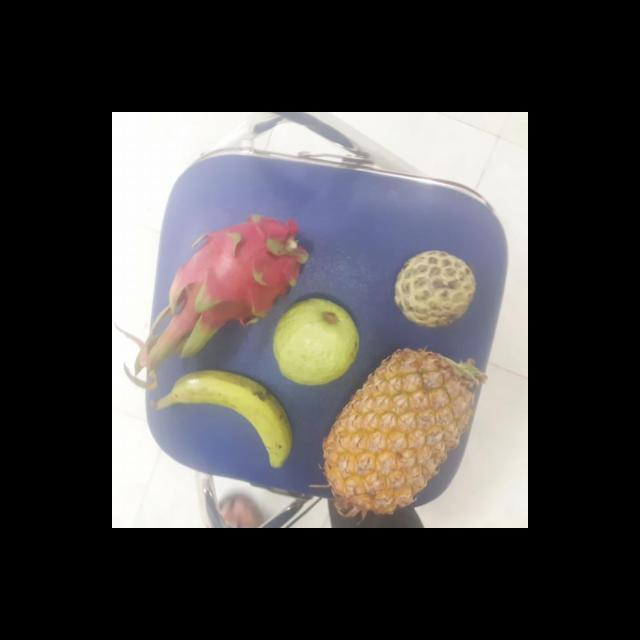Sakya fruit: (392, 251, 474, 327)
guava: (268, 297, 359, 383)
pineapple: (321, 351, 476, 514)
pitaya: (172, 214, 308, 330)
